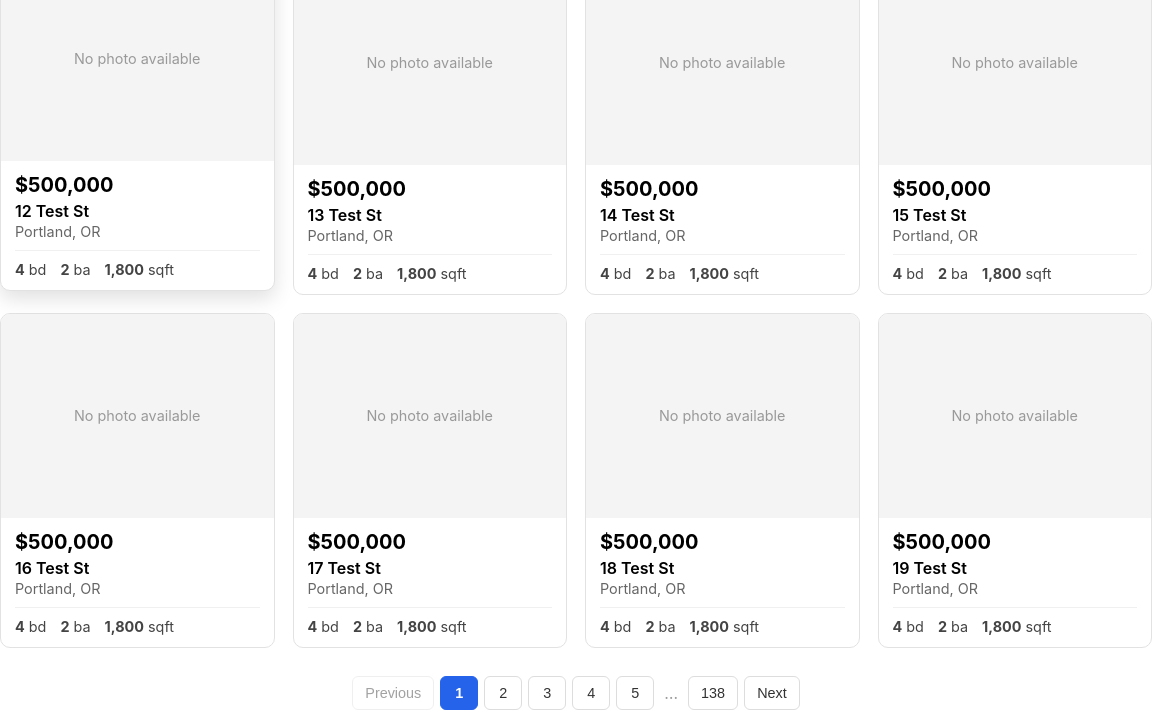
Test: while the next page is loading › the count keeps describing the rows actually visible
(page scrolled)
Click the button "Next": (772,693) top-left (744, 676), bottom-right (800, 710)
(page scrolled)
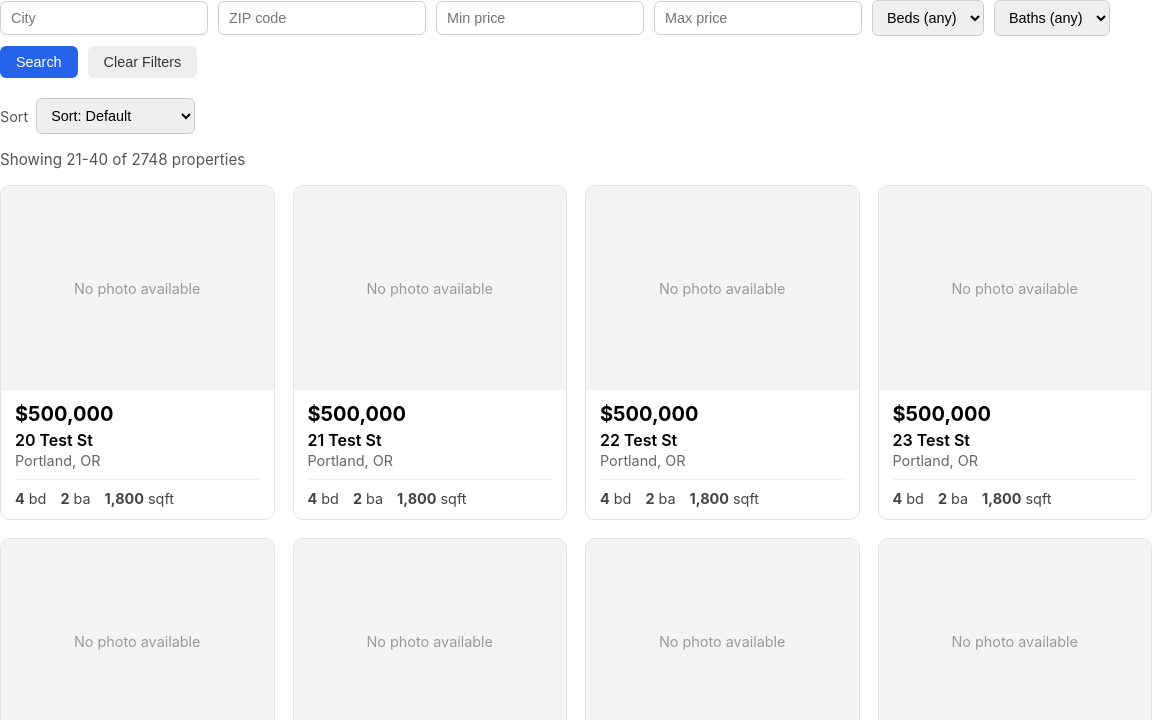
Result: the text "Showing 21-40 of 2748 properties" is shown at top-left (0, 150), bottom-right (245, 169)
